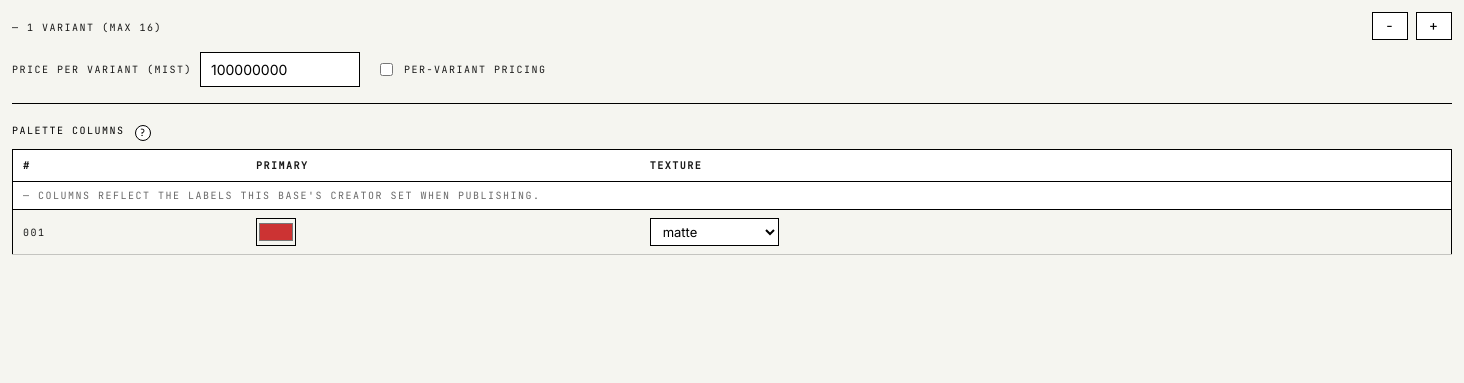
Scenario: VariantEditor › global_price_change_syncs_to_all_rows_when_pricing_off
This screenshot has width=1464, height=383.
Click the button with test id "variant-add". click: click(1434, 26)
box: [1416,12,1452,40]
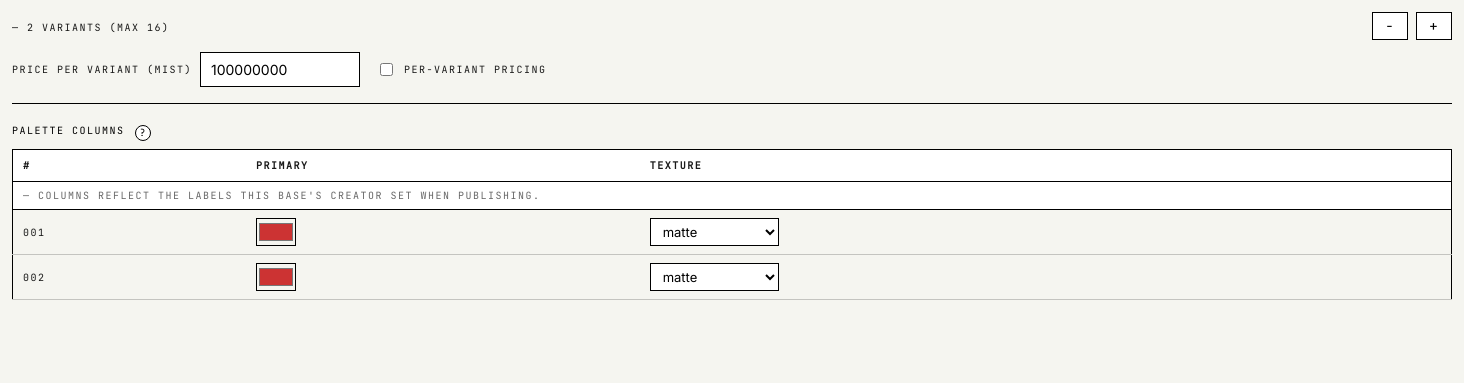
Click the button with test id "variant-add". click: click(1434, 26)
box: [1416,12,1452,40]
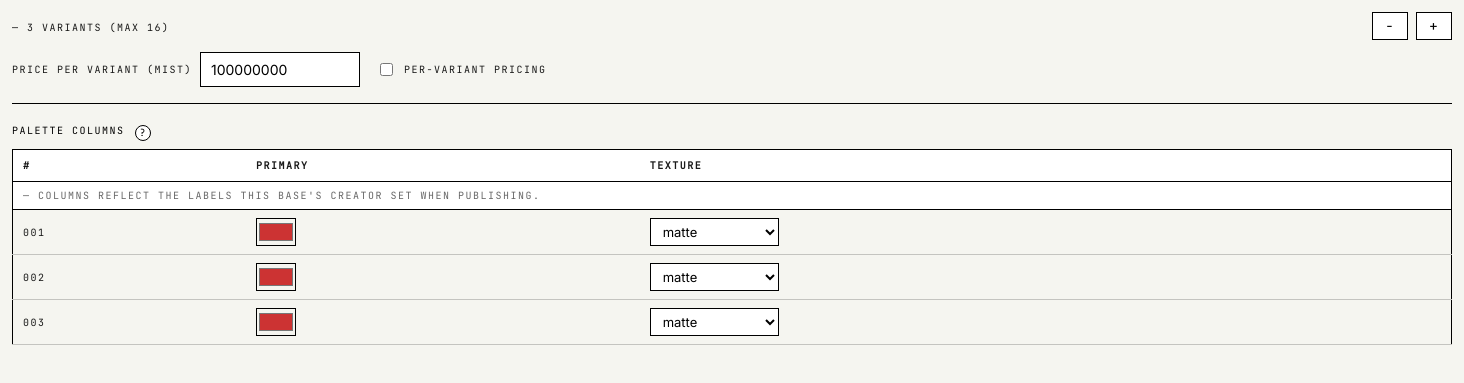
Replace the text in the field with test id "global-price-input" with "777". click: (280, 70)
box: [200,52,360,87]
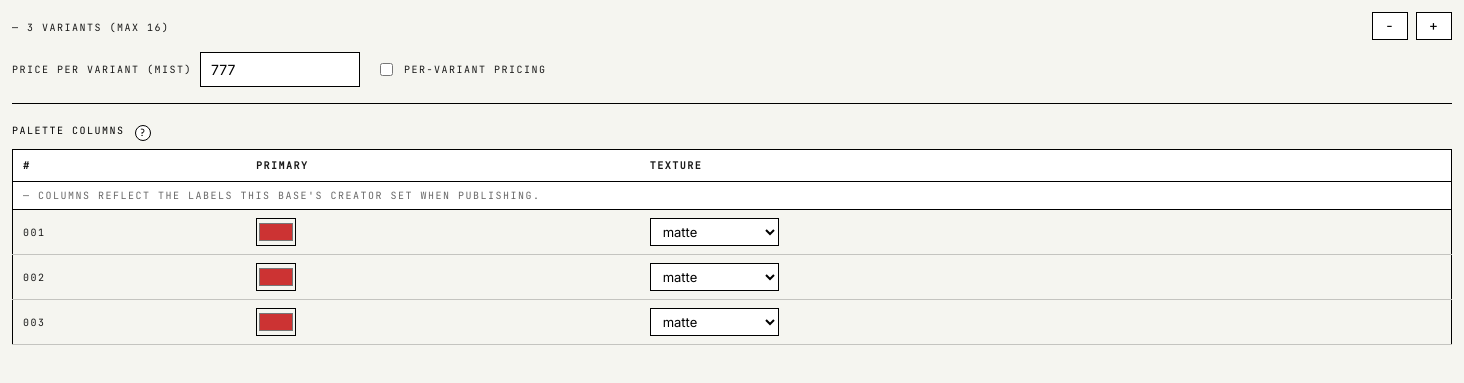
Toggle pricing on to inspect row values (they'll have been synced).
Click the checkbox with test id "per-variant-pricing-toggle". click: click(386, 70)
box: [380,63,393,76]
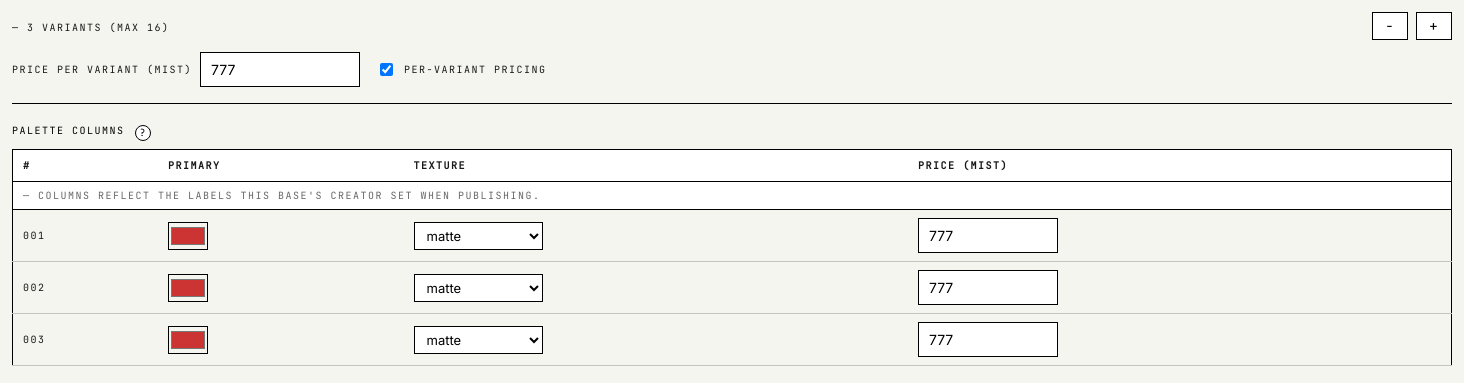
Check: the field with test id "variant-price-0" holds "777", box [918,218,1058,253]
Check: the field with test id "variant-price-1" holds "777", box [918,270,1058,305]
Check: the field with test id "variant-price-2" holds "777", box [918,322,1058,357]
